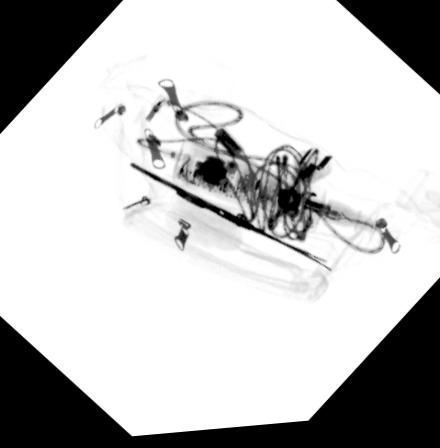Scissors: (131, 164, 332, 281)
